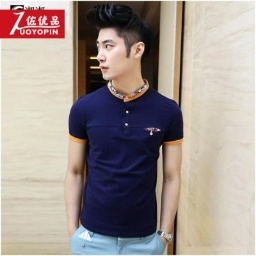face: (91, 6, 149, 82)
